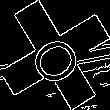O_NE: (22, 23, 88, 87)
